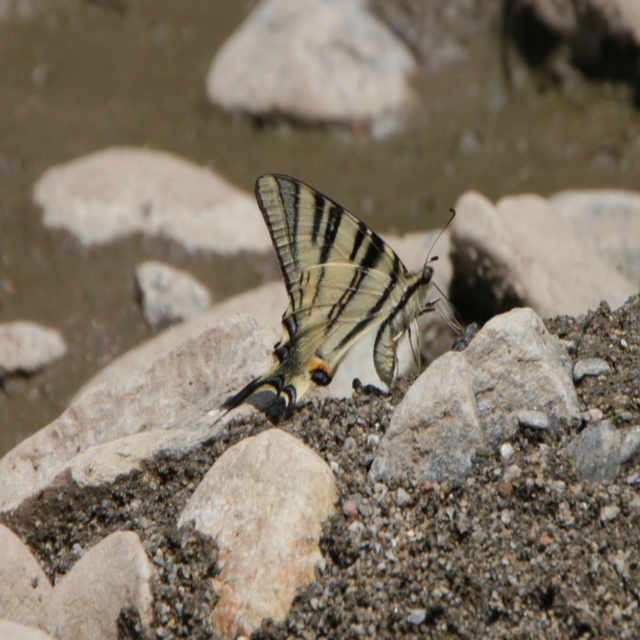Butterfly: (242, 158, 446, 418)
